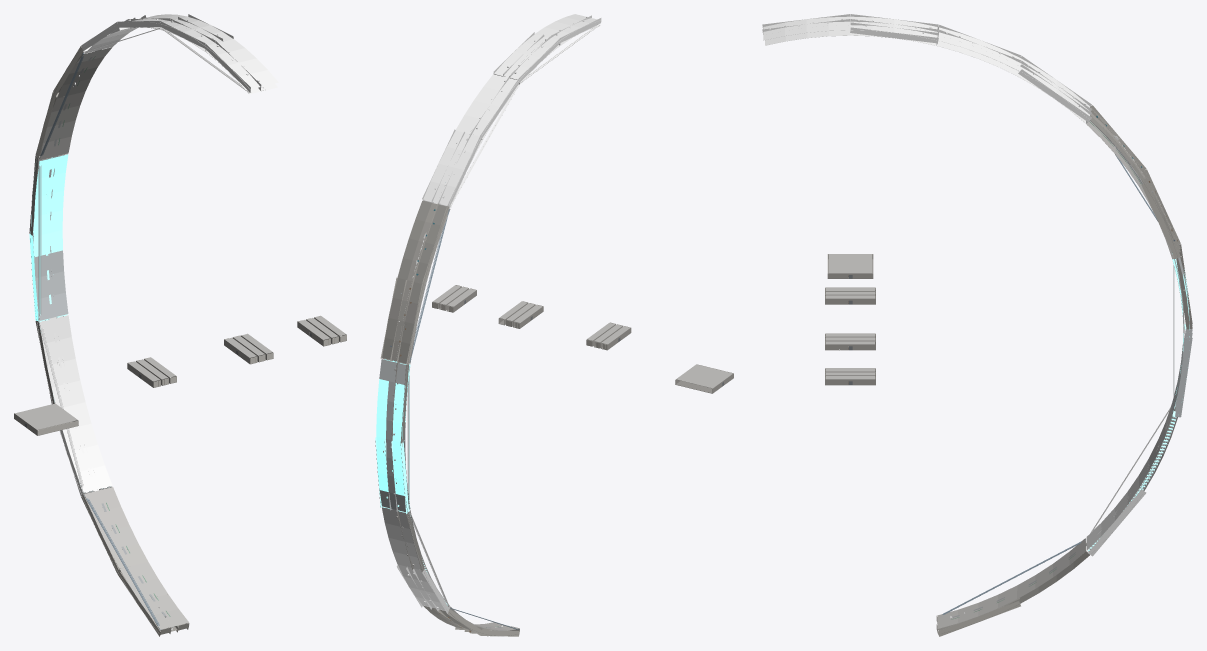
The model's file is xuanshu_interior_C16.glb.
The picture shows the model from 3 angles, left to right: view 1: azimuth 30°, elevation 25°; view 2: azimuth 150°, elevation 25°; view 3: azimuth 270°, elevation 25°; orthographic projection. The views are drawn at different scales.
Parts seen in each view (by area): view 1: UNIT-ADM-002, UNIT-ADM-001, UNIT-WTR-003; view 2: UNIT-ADM-001, UNIT-ADM-002, UNIT-WTR-003; view 3: UNIT-ADM-001, UNIT-ADM-002, UNIT-WTR-003.
Boxes of the visible parts, left/top/right/bottom form: UNIT-ADM-002: left=29, top=154, right=189, bottom=636; UNIT-ADM-001: left=35, top=14, right=278, bottom=160; UNIT-WTR-003: left=14, top=403, right=78, bottom=435; UNIT-ADM-001: left=380, top=14, right=601, bottom=364; UNIT-ADM-002: left=375, top=359, right=519, bottom=636; UNIT-WTR-003: left=675, top=364, right=733, bottom=393; UNIT-ADM-001: left=762, top=14, right=1180, bottom=259; UNIT-ADM-002: left=936, top=244, right=1192, bottom=636; UNIT-WTR-003: left=827, top=254, right=873, bottom=278.
Bounding box in the file's own units: 185 × 359 × 230.
